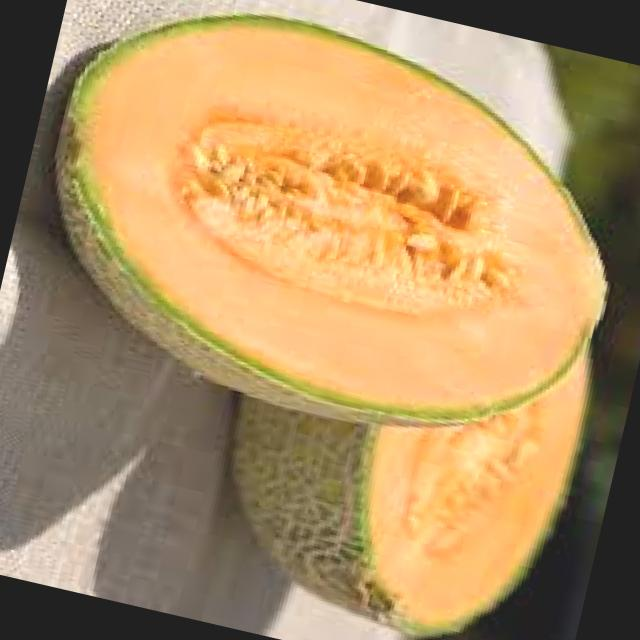cantaloupe: (8, 0, 640, 466), (198, 292, 592, 640)
